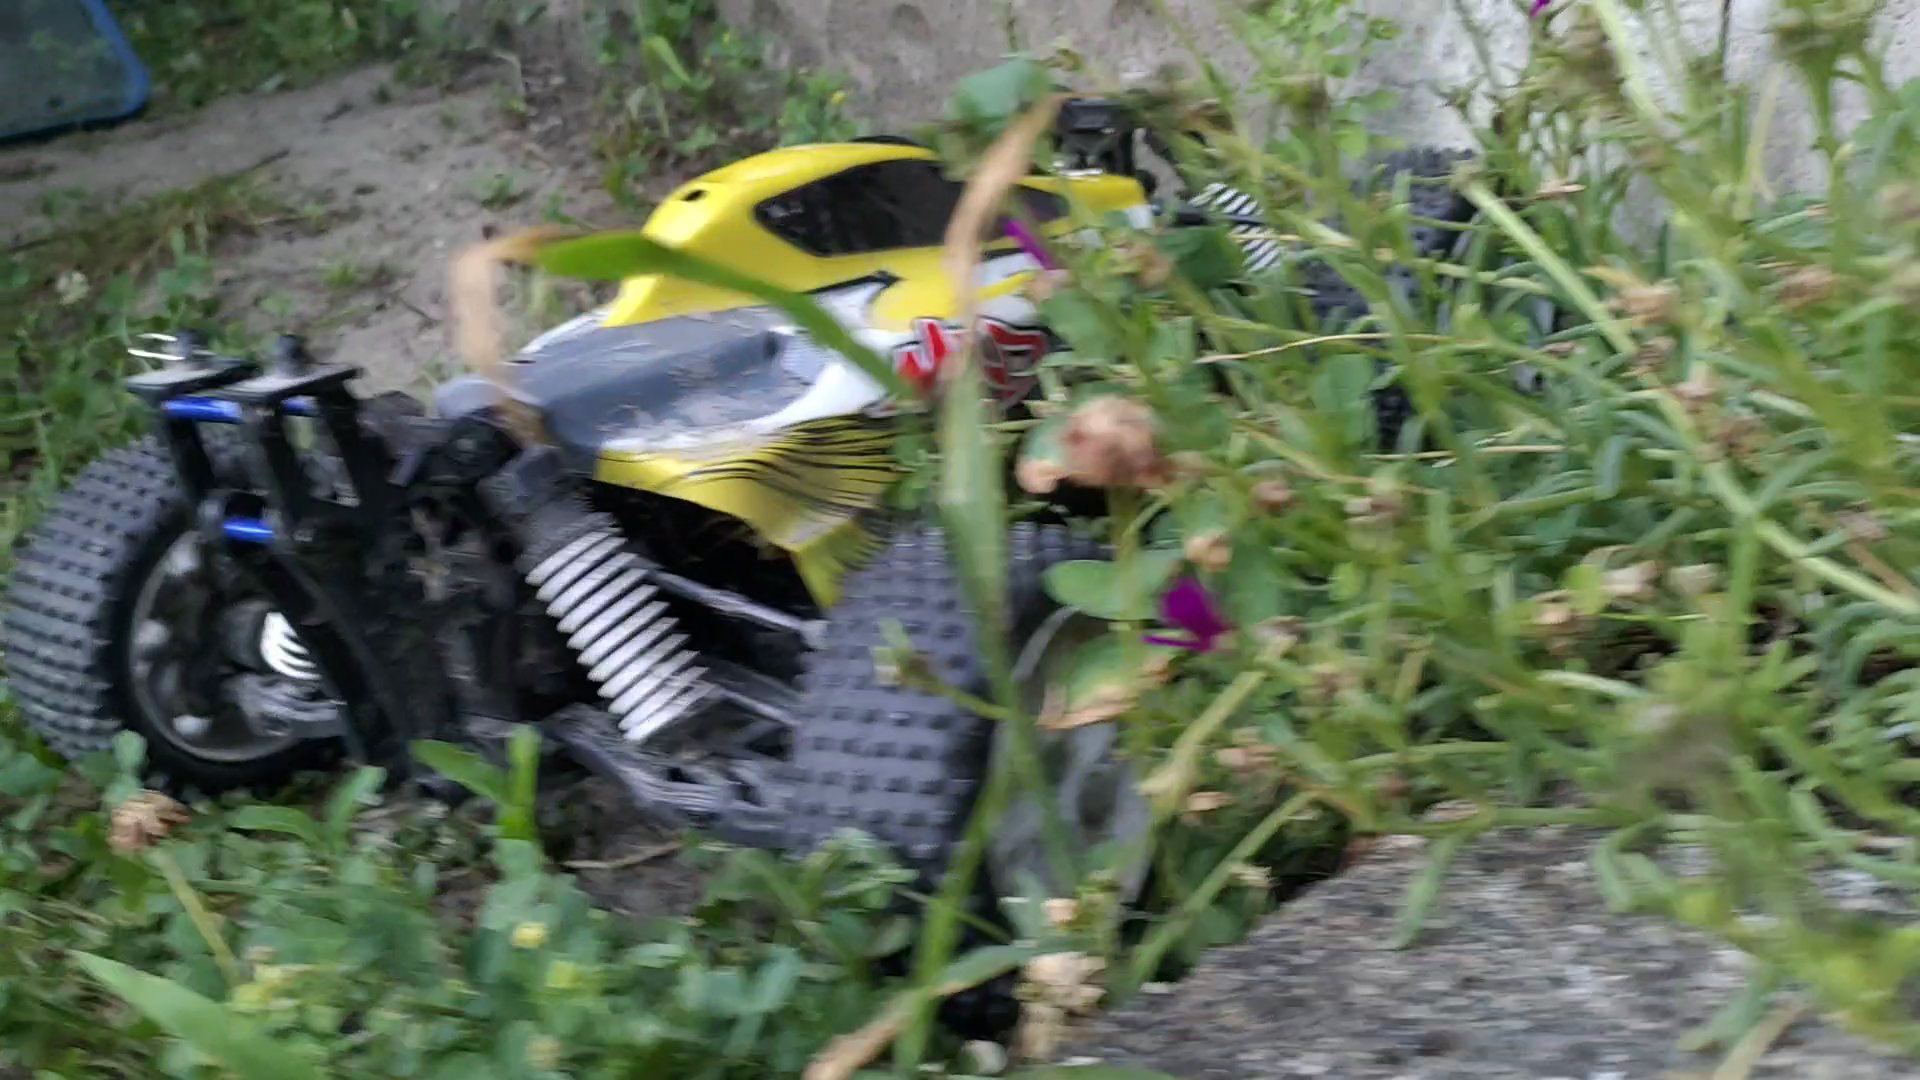buggy: (3, 88, 1564, 1038)
